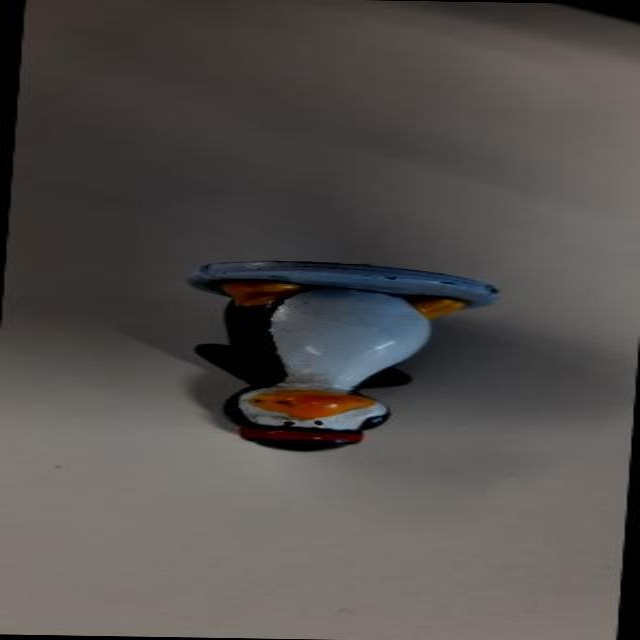Penguin: (165, 255, 505, 461)
